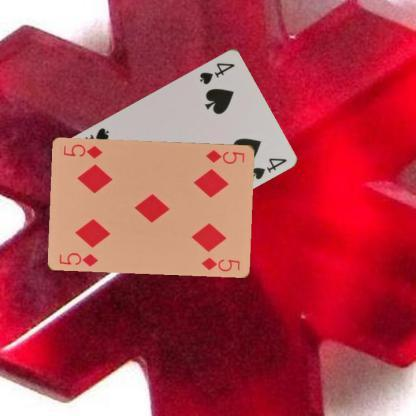4s: (196, 60, 236, 86)
5d: (57, 249, 100, 268), (204, 146, 246, 164)
